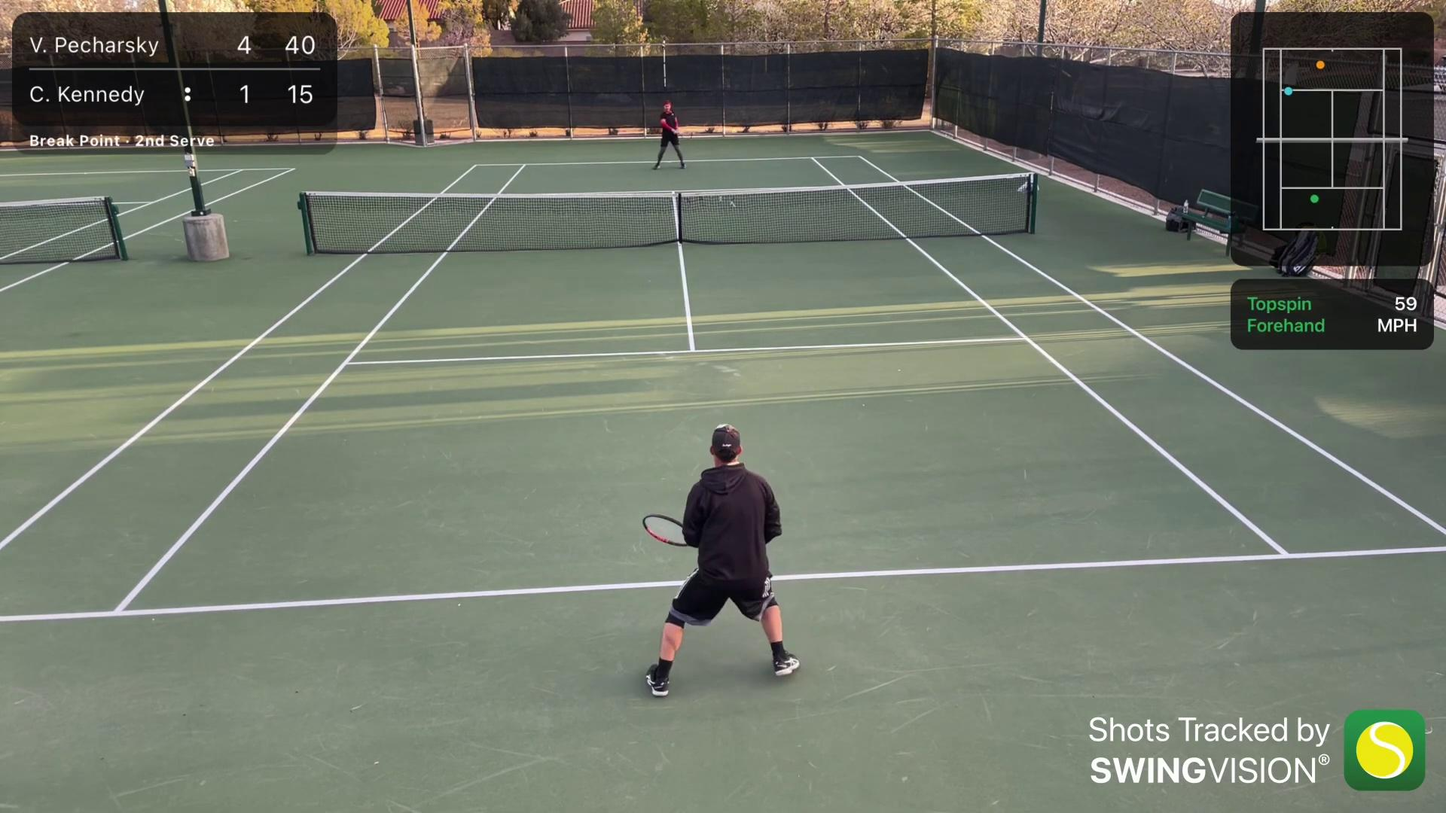ball: (730, 126, 739, 136)
